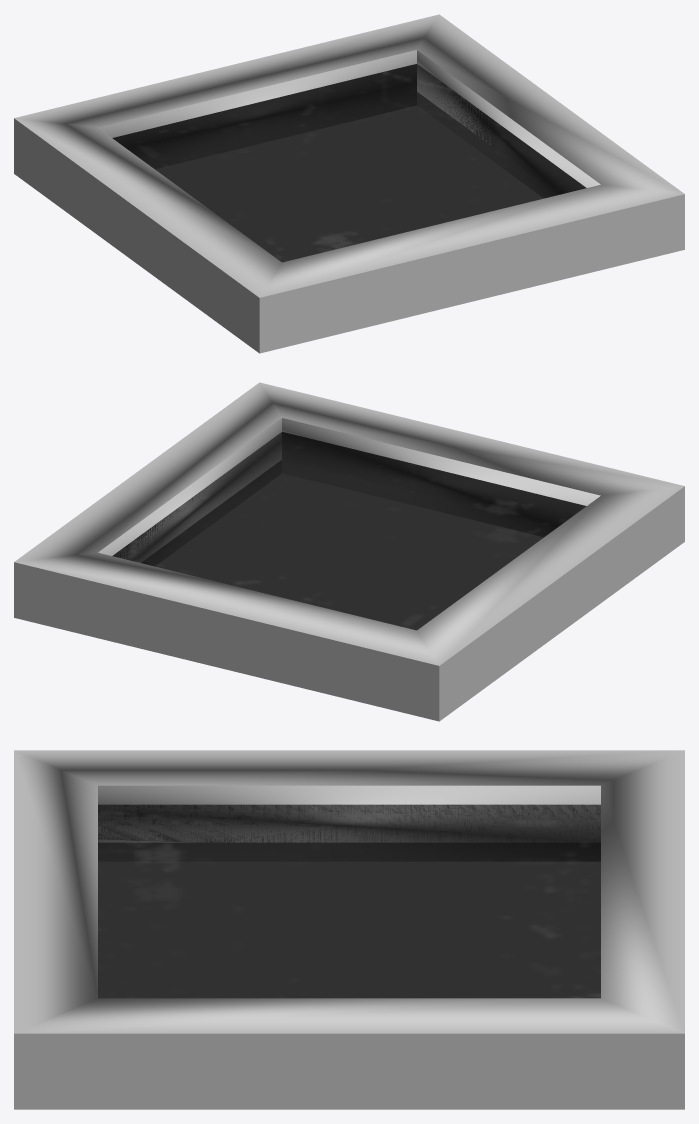
Rendered from glass_hxh.fbx.
3 views of the same model, one above another, from view 1: azimuth 30°, elevation 25°; view 2: azimuth 150°, elevation 25°; view 3: azimuth 270°, elevation 25° (orthographic). The views are drawn at different scales.
Parts seen in each view (by area): view 1: glass_hxh; view 2: glass_hxh; view 3: glass_hxh.
Boxes of the visible parts, x1=… form: glass_hxh: x1=14, y1=14, x2=684, y2=353; glass_hxh: x1=14, y1=382, x2=684, y2=721; glass_hxh: x1=14, y1=750, x2=684, y2=1109.
Size of the model in its own units: 20 by 2.5 by 20.
